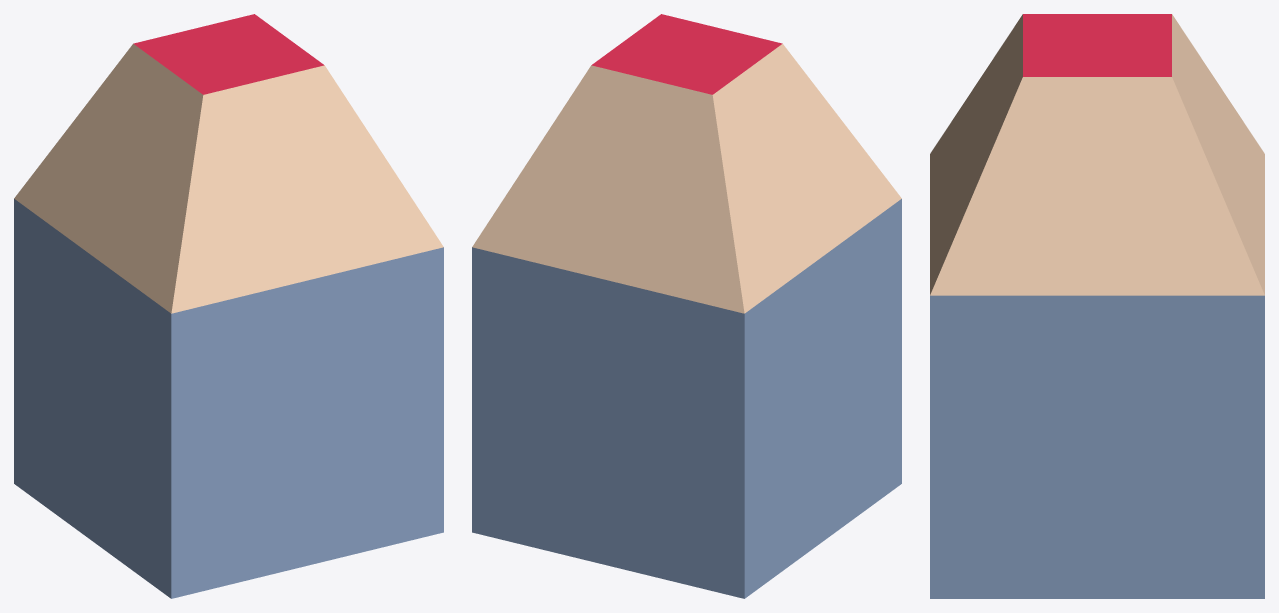
File: test_color.glb
3 renders of one model, left to right at view 1: azimuth 30°, elevation 25°; view 2: azimuth 150°, elevation 25°; view 3: azimuth 270°, elevation 25°, orthographic. The views are drawn at different scales.
Visible parts, largest first — view 1: Cube; view 2: Cube; view 3: Cube.
Boxes of the visible parts, bbox=[...] form: Cube: bbox=[14, 14, 443, 598]; Cube: bbox=[472, 14, 901, 598]; Cube: bbox=[930, 14, 1264, 598].
Bounding box in the file's own units: 2 × 3.18 × 2.
